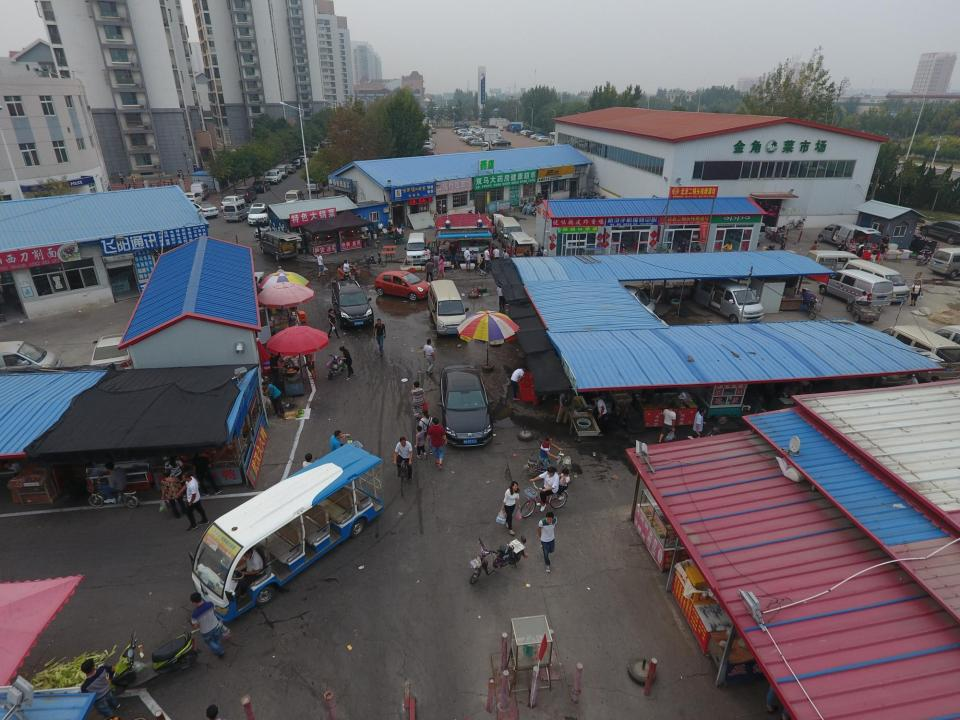car: (188, 442, 384, 625), (437, 364, 494, 447), (331, 280, 374, 330), (90, 332, 136, 375), (373, 269, 432, 301), (185, 201, 219, 219), (253, 220, 283, 240), (247, 203, 269, 226), (220, 195, 245, 212), (181, 192, 204, 208), (264, 168, 282, 184), (252, 179, 270, 194), (288, 157, 304, 169), (309, 145, 322, 158), (283, 163, 297, 174), (298, 155, 310, 165)
truck: (586, 284, 658, 324)
van: (870, 325, 960, 383), (694, 276, 764, 326), (839, 259, 910, 303), (818, 268, 894, 309), (0, 340, 65, 382), (427, 279, 469, 338), (818, 222, 882, 252), (802, 250, 864, 279), (259, 231, 302, 260), (504, 231, 536, 264), (927, 247, 960, 278), (496, 217, 524, 248), (404, 232, 429, 264), (223, 201, 252, 222), (234, 185, 258, 202), (190, 182, 210, 200), (284, 190, 305, 206), (306, 177, 324, 194), (274, 164, 288, 179)
